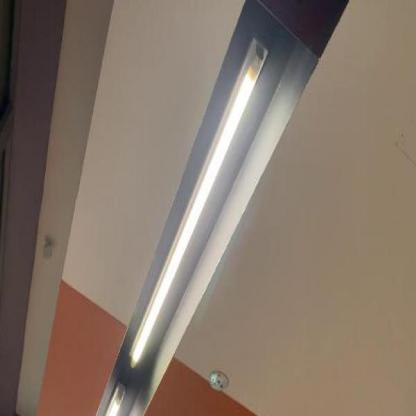light_on: (123, 19, 278, 372), (83, 386, 131, 415)
